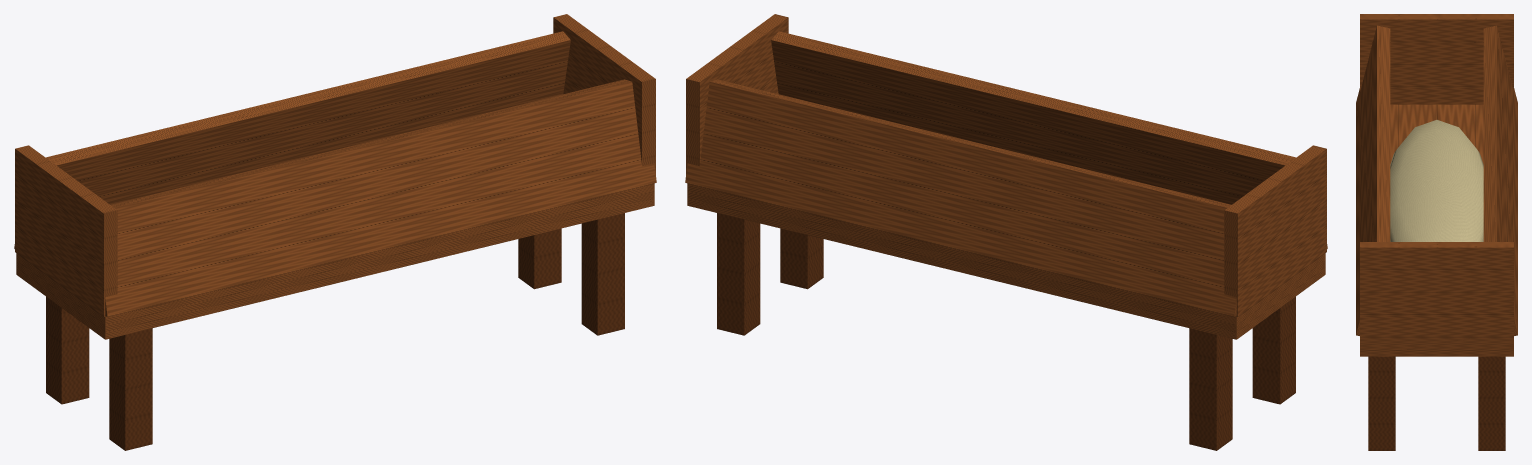
Rendered from farm-and-working-animals-hd-feed-trough-dc095f75__29215.glb.
The picture shows the model from 3 angles, left to right: view 1: azimuth 30°, elevation 25°; view 2: azimuth 150°, elevation 25°; view 3: azimuth 270°, elevation 25°; orthographic projection. The views are drawn at different scales.
Parts seen in each view (by area): view 1: feed-trough; view 2: feed-trough; view 3: feed-trough.
Boxes of the visible parts, <box> form: feed-trough: <box>14,14,656,450</box>; feed-trough: <box>685,14,1327,450</box>; feed-trough: <box>1356,14,1517,450</box>.
Bounding box in the file's own units: 2.01 × 0.8599 × 0.5887.
3 materials, 3 textured.
